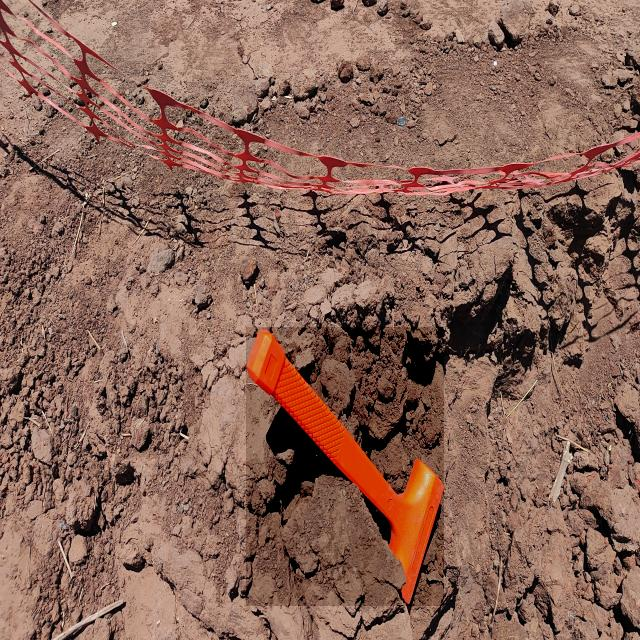Orange_hammer: (246, 327, 444, 606)
